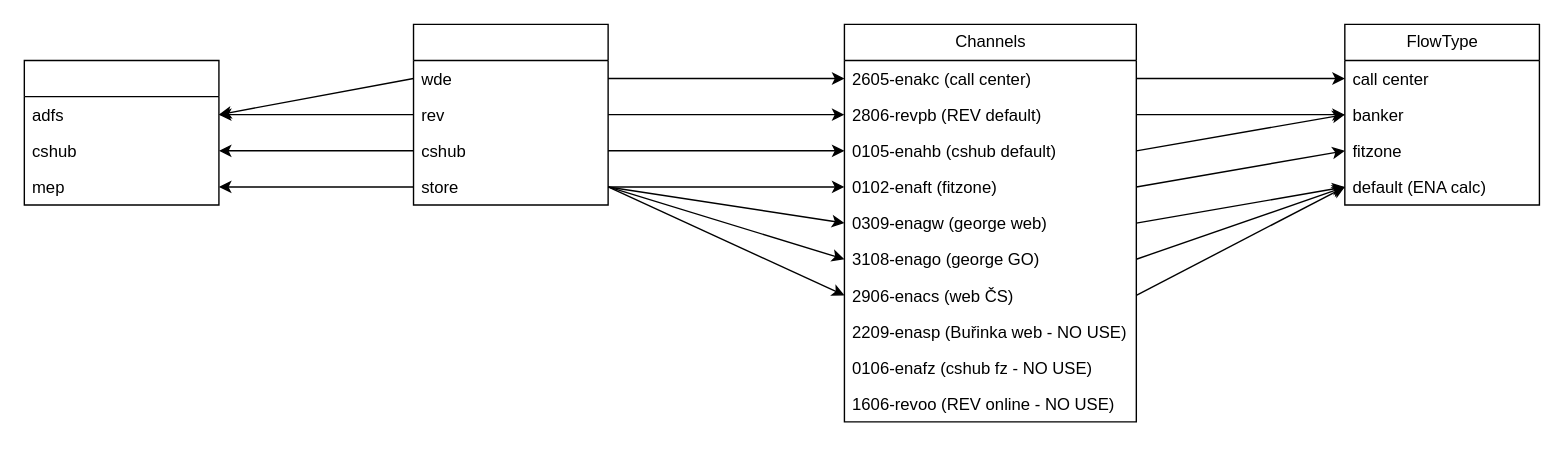
This 1564x450 diagram has some shape labels left out. The shapes that lost their labels are listed below. From the top down, each one's box as (x1, y1, x2, y2) in pixels, then its label:
(23, 59, 219, 205): LoginType
(412, 23, 608, 205): UserType
